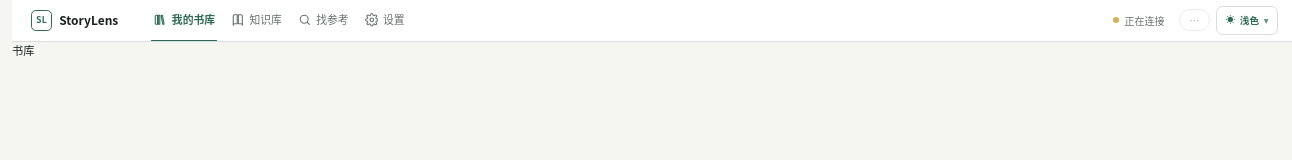
Appearance theme header control › closes menu on Escape
Click the button with test id "appearance-theme-trigger" at (1247, 20), box [1216, 6, 1278, 35]
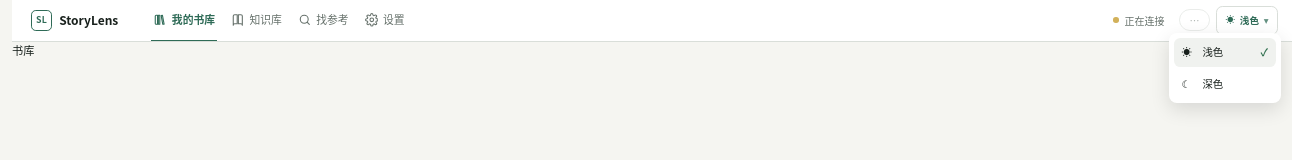
Result: the menu with test id "appearance-theme-panel" is shown at [1169, 33, 1281, 103]
Press Escape
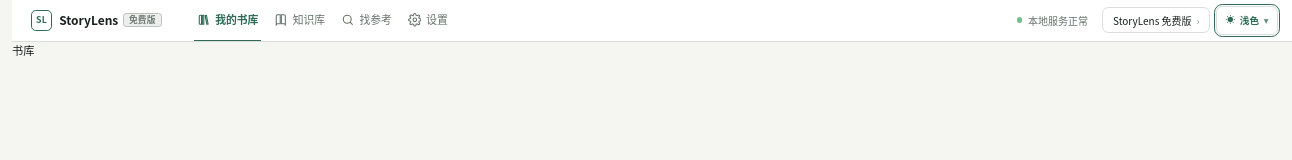
Result: the menu with test id "appearance-theme-panel" is gone
